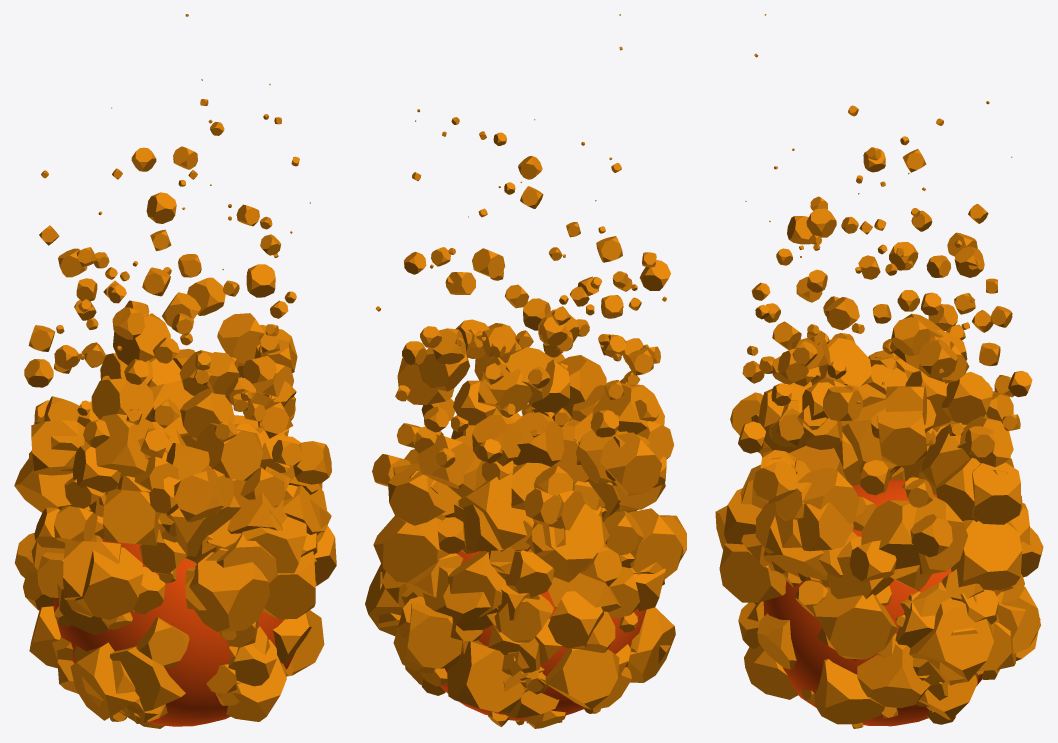
The model's file is SM_ANIM_Fireball.fbx.
The picture shows the model from 3 angles, left to right: view 1: azimuth 30°, elevation 25°; view 2: azimuth 150°, elevation 25°; view 3: azimuth 270°, elevation 25°; orthographic projection. The views are drawn at different scales.
Visible parts, largest first — view 1: PS_Emi_LowPoly_Fireball_Base; view 2: PS_Emi_LowPoly_Fireball_Base; view 3: PS_Emi_LowPoly_Fireball_Base.
Part boxes in pixels (box(x1,y1,x2,y2)): PS_Emi_LowPoly_Fireball_Base: box(14, 14, 336, 728); PS_Emi_LowPoly_Fireball_Base: box(365, 14, 686, 728); PS_Emi_LowPoly_Fireball_Base: box(715, 14, 1043, 728).
Bounding box in the file's own units: 218 × 520 × 224.
